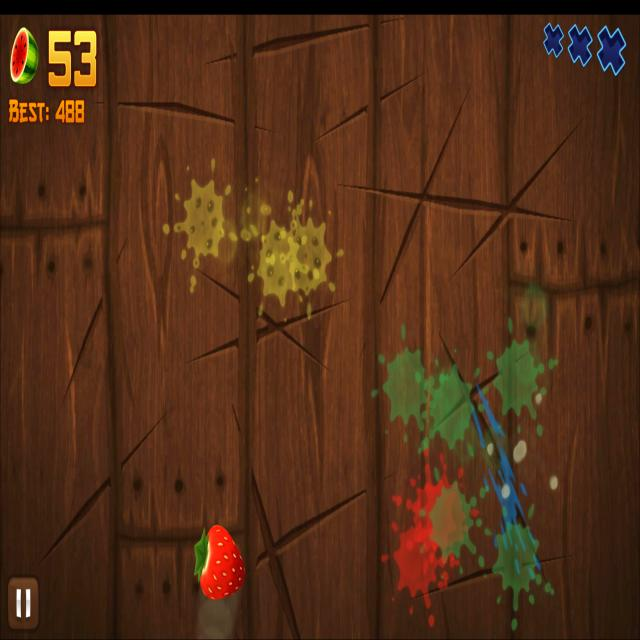fruit: (198, 524, 246, 601)
